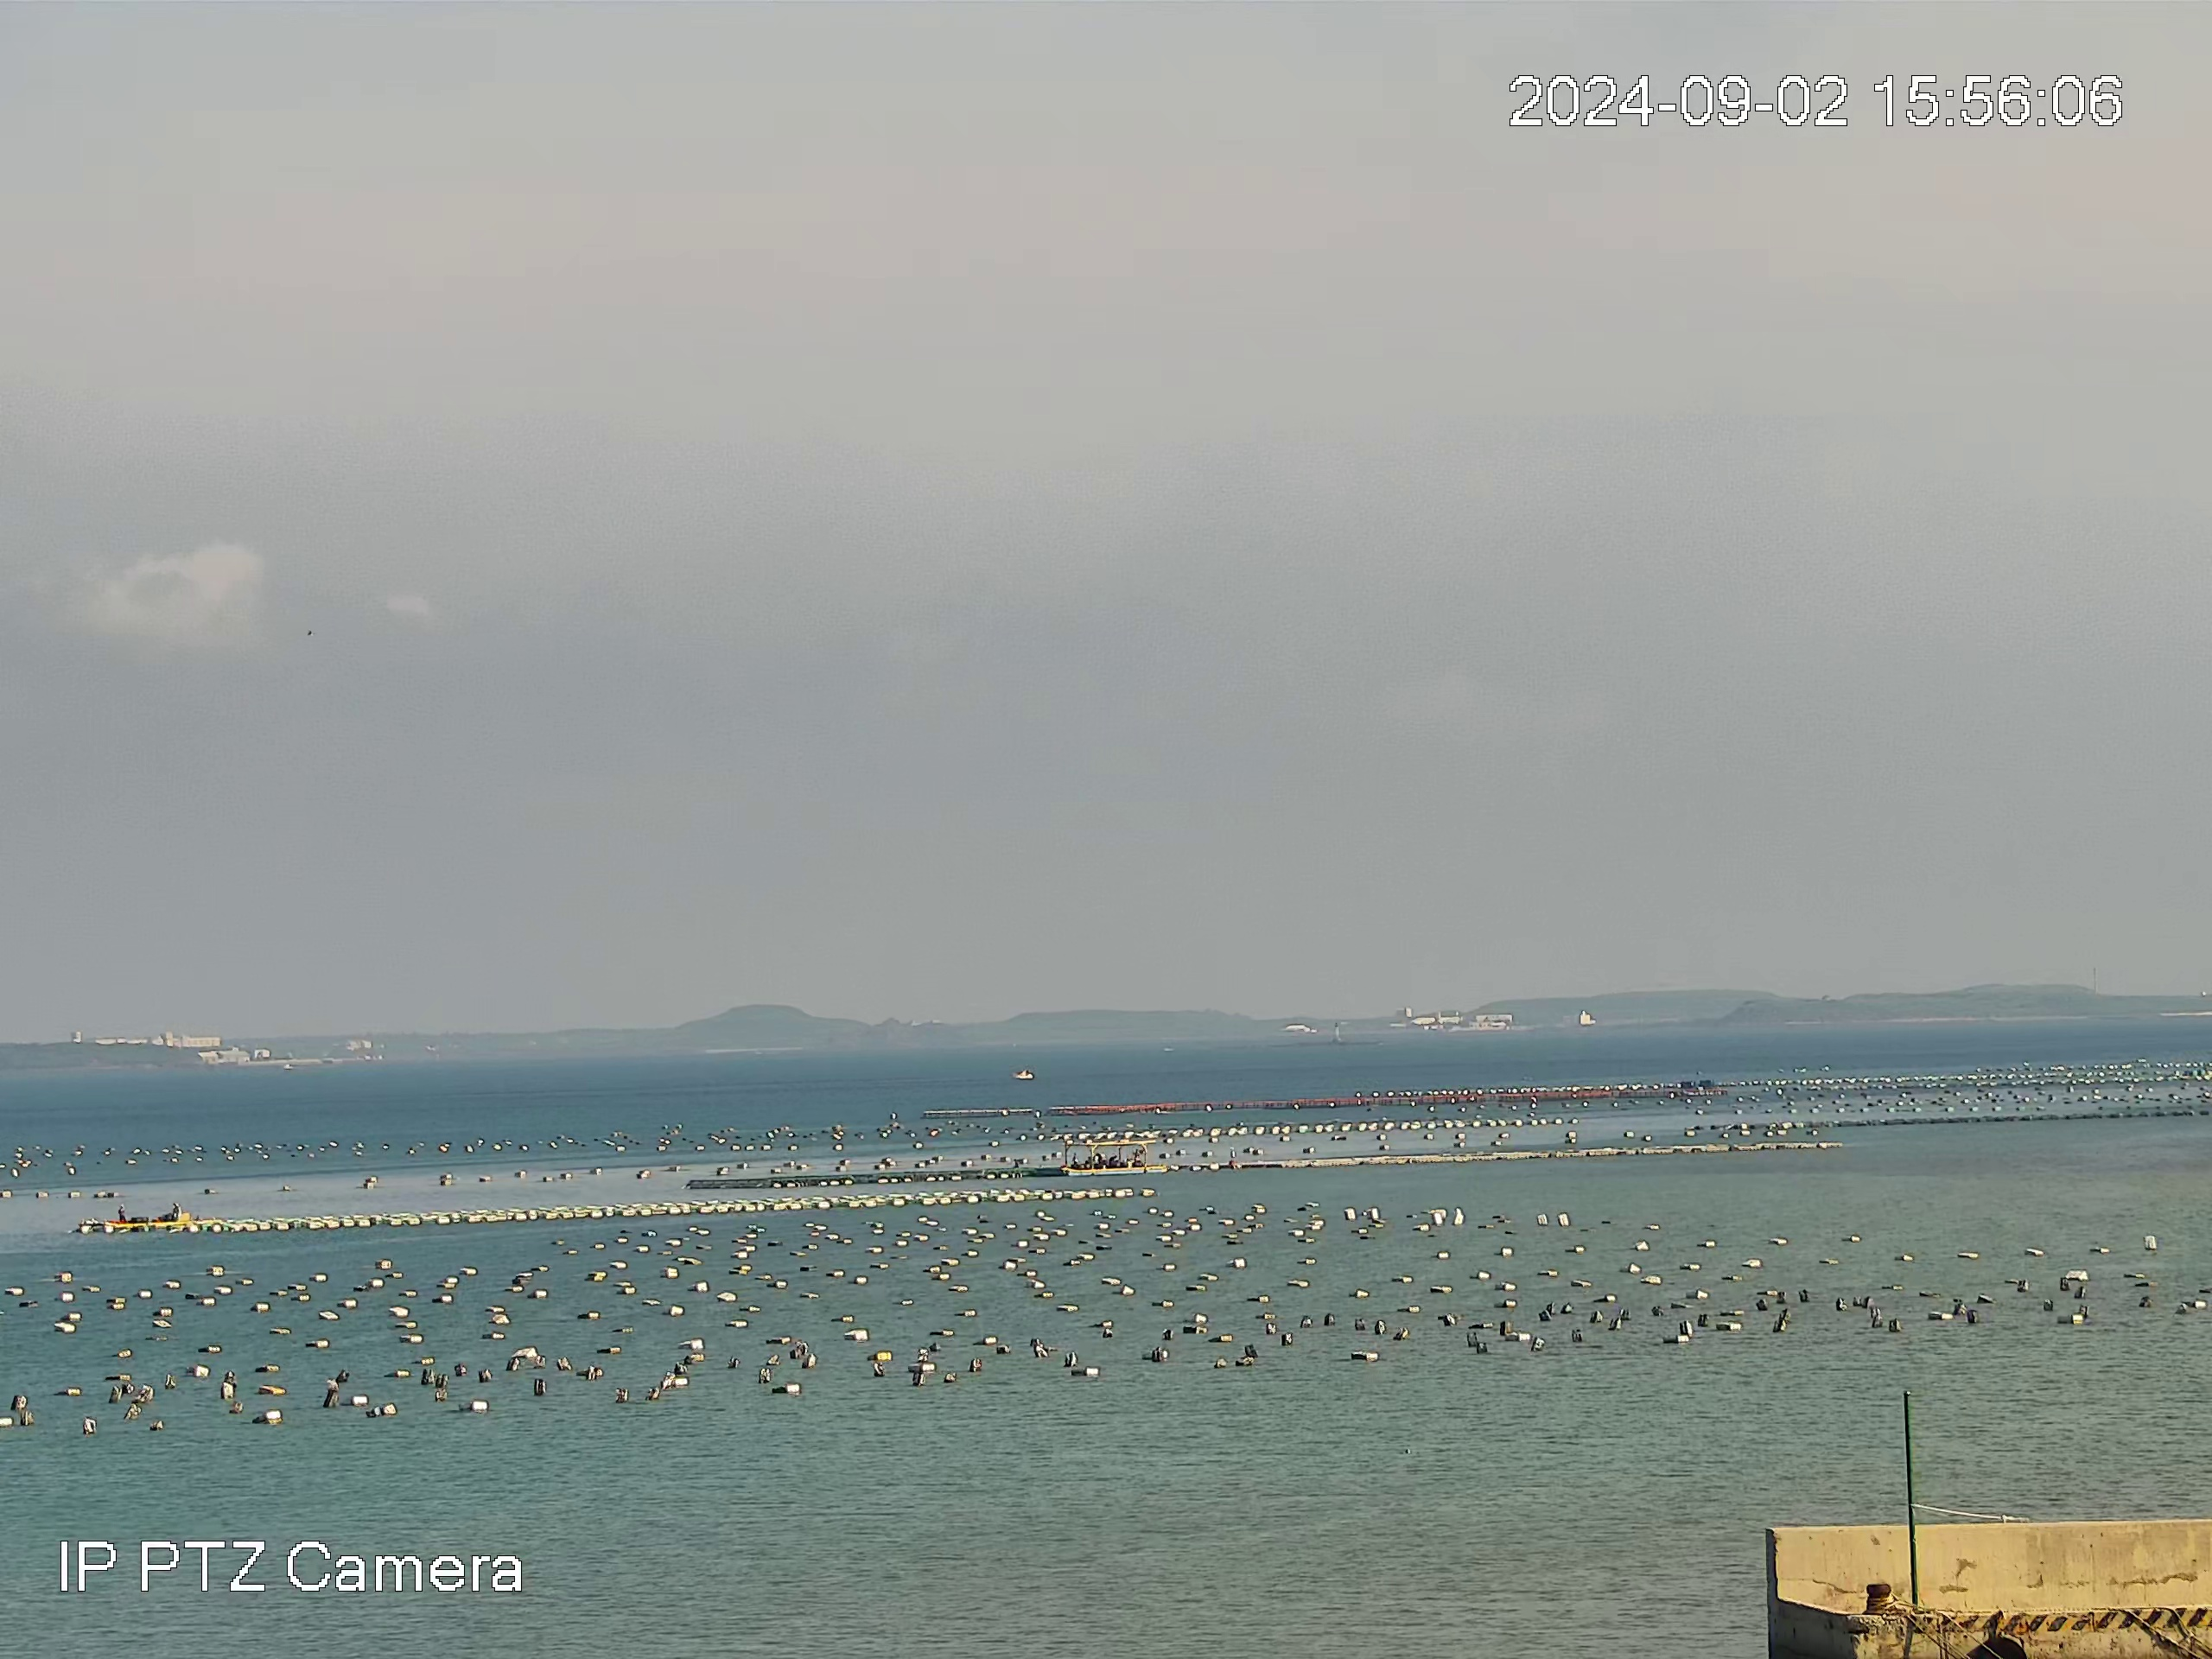boat: (1059, 1136, 1167, 1178), (101, 1201, 223, 1227), (1010, 1066, 1036, 1082)
